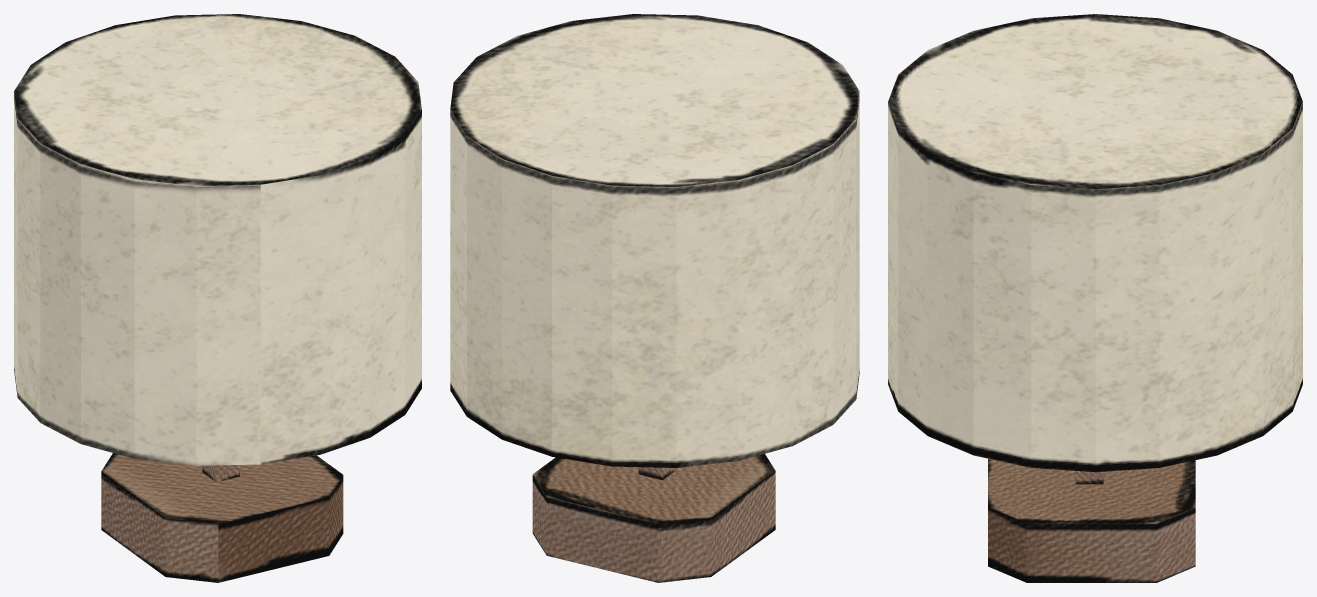
Rendered from furniture_table_lamp.glb.
3 renders of one model, left to right at view 1: azimuth 30°, elevation 25°; view 2: azimuth 150°, elevation 25°; view 3: azimuth 270°, elevation 25°, orthographic.
Parts seen in each view (by area): view 1: Lamp; view 2: Lamp; view 3: Lamp.
Boxes of the visible parts, x1=… form: Lamp: x1=14, y1=14, x2=421, y2=582; Lamp: x1=450, y1=14, x2=859, y2=582; Lamp: x1=888, y1=14, x2=1302, y2=582.
Size of the model in its own units: 0.0245 by 0.0284 by 0.0245.
1 material, 1 textured.
